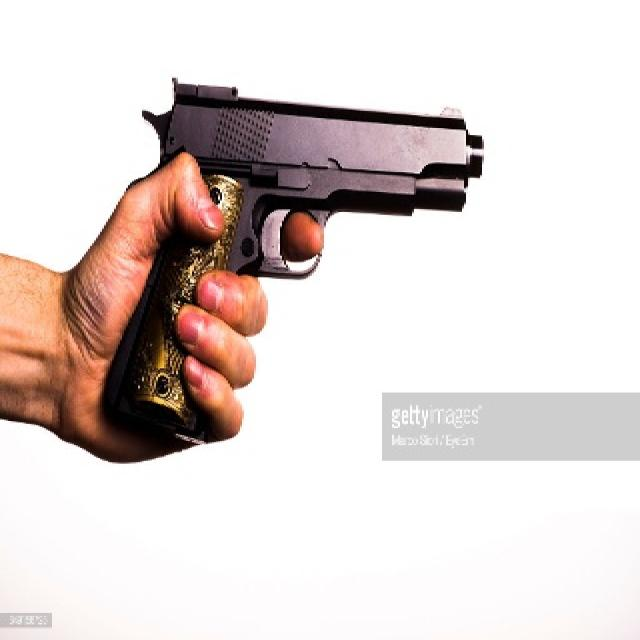handgun: (109, 68, 491, 434)
